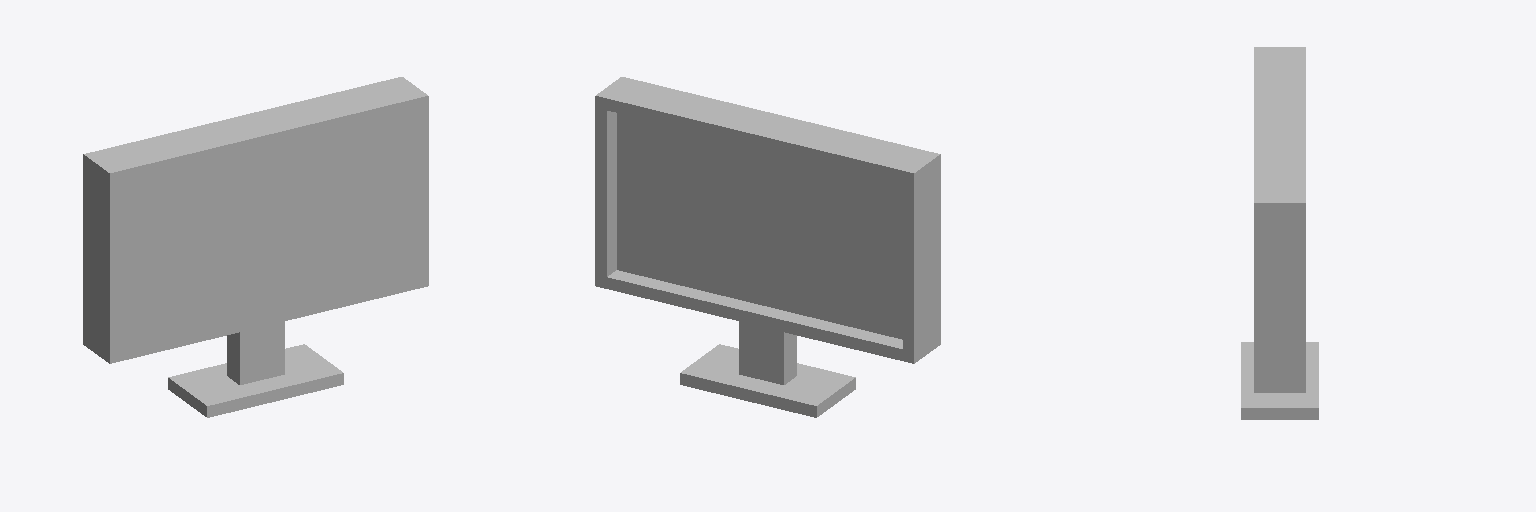
File: monitor Without Screen.obj
The picture shows the model from 3 angles: view 1: azimuth 30°, elevation 25°; view 2: azimuth 150°, elevation 25°; view 3: azimuth 270°, elevation 25°; orthographic projection.
Parts seen in each view (by area): view 1: cube; view 2: cube; view 3: cube.
Boxes of the visible parts, <box> form: cube: <box>83,77,428,417</box>; cube: <box>595,77,940,417</box>; cube: <box>1241,47,1318,419</box>.
Size of the model in its own units: 0.875 by 0.6875 by 0.1875.